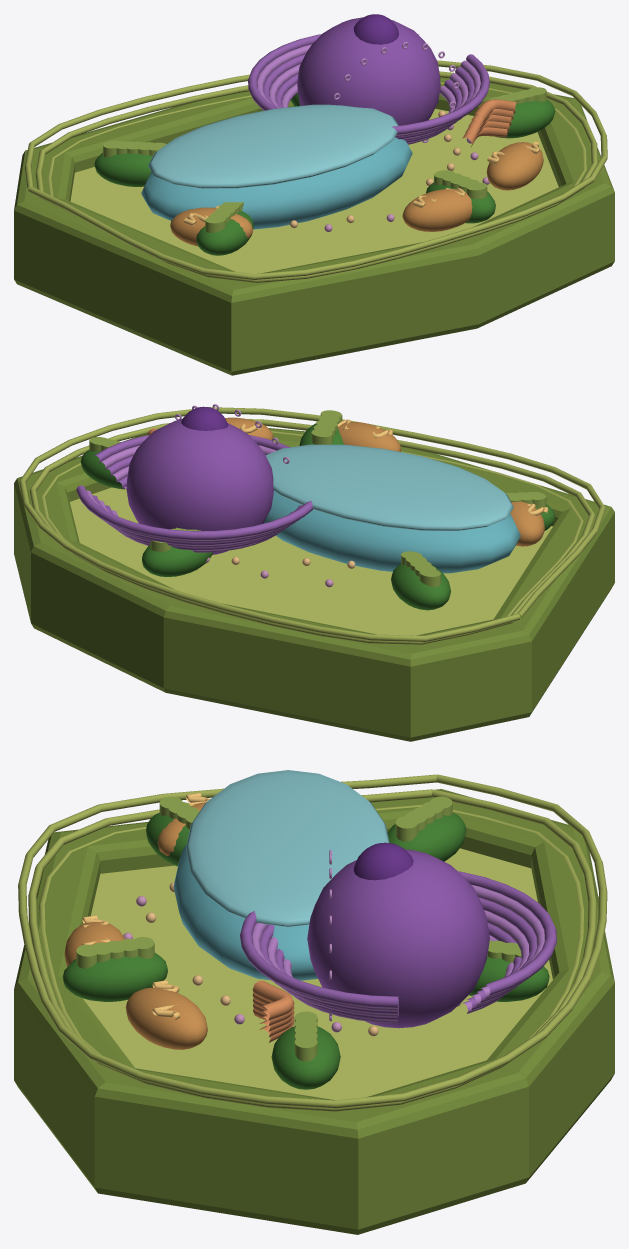
The model's file is plant-cell.glb.
The picture shows the model from 3 angles, top to bottom: view 1: azimuth 30°, elevation 25°; view 2: azimuth 150°, elevation 25°; view 3: azimuth 270°, elevation 25°; orthographic projection. The views are drawn at different scales.
Parts seen in each view (by area): view 1: shell, vacuole, plant-cell, nucleus, organelle-1, endoplasmic-reticulum, organelle-2, golgi, ribosomes; view 2: shell, vacuole, plant-cell, nucleus, organelle-1, endoplasmic-reticulum, organelle-2; view 3: shell, plant-cell, vacuole, nucleus, organelle-1, endoplasmic-reticulum, organelle-2, golgi, ribosomes.
Boxes of the visible parts, x1,y1,x2,y2 form: shell: [14, 60, 614, 375]; vacuole: [141, 104, 412, 229]; plant-cell: [70, 108, 558, 273]; nucleus: [297, 14, 459, 142]; organelle-1: [94, 87, 555, 255]; endoplasmic-reticulum: [248, 34, 489, 144]; organelle-2: [170, 141, 543, 246]; golgi: [462, 99, 516, 146]; ribosomes: [290, 110, 489, 231]; shell: [14, 407, 614, 741]; vacuole: [264, 444, 520, 573]; plant-cell: [70, 487, 552, 635]; nucleus: [126, 404, 289, 554]; organelle-1: [80, 410, 555, 610]; endoplasmic-reticulum: [76, 435, 312, 552]; organelle-2: [225, 417, 548, 546]; shell: [14, 774, 614, 1234]; plant-cell: [83, 848, 552, 1100]; vacuole: [173, 770, 389, 980]; nucleus: [307, 842, 489, 1028]; organelle-1: [62, 796, 549, 1089]; endoplasmic-reticulum: [240, 871, 556, 1023]; organelle-2: [64, 793, 209, 1049]; golgi: [252, 980, 294, 1042]; ribosomes: [123, 882, 461, 1036].
Size of the model in its own units: 7.31 by 2.66 by 5.39.
